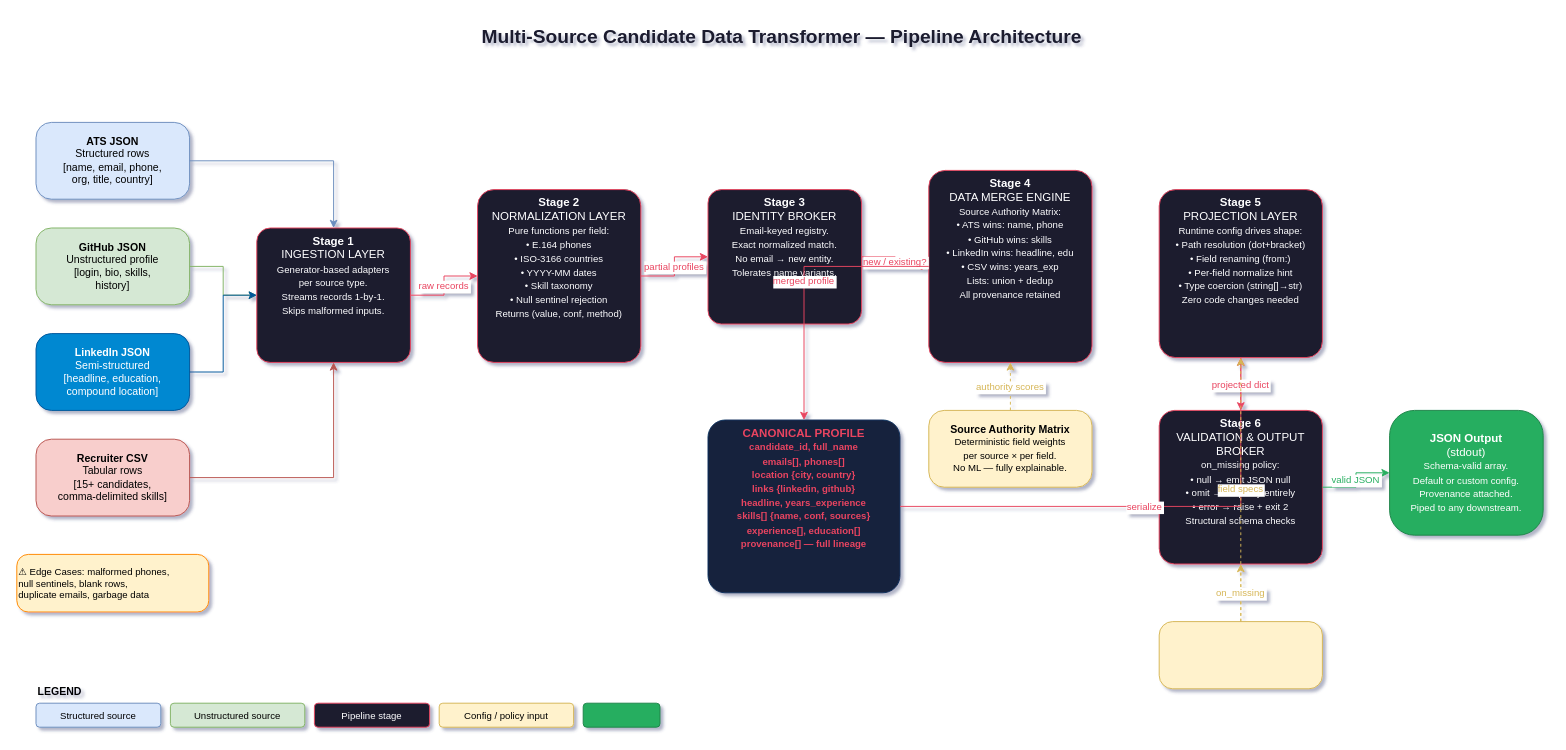
Image size: 1566x750. Some labels were removed from this diagram. The shapes that lost their labels are listed below. From the top down, each one's box as (x1, y1, x2, y2) in pixels, then its label:
(1158, 621, 1322, 689): runtime_config.json fields[], include_confidence, on_missing policy
(582, 702, 660, 727): Output
